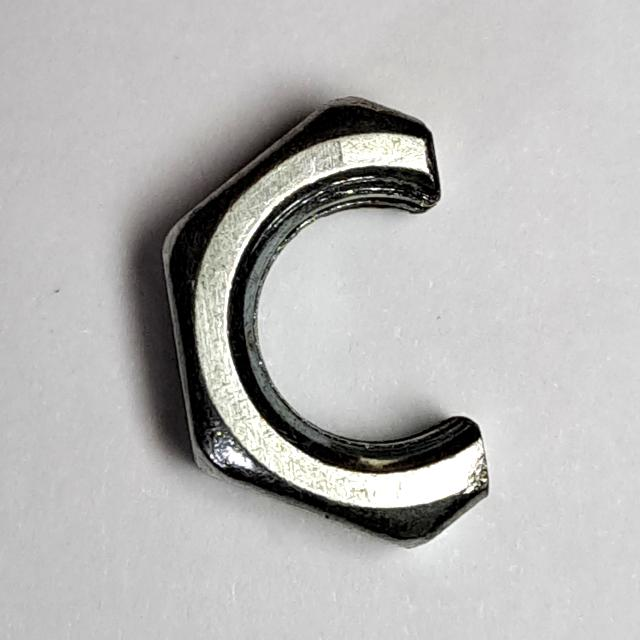Fracture: (147, 79, 530, 565)
